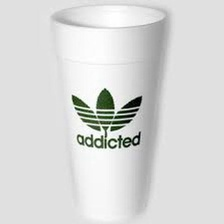paper_cup: (44, 0, 172, 224)
